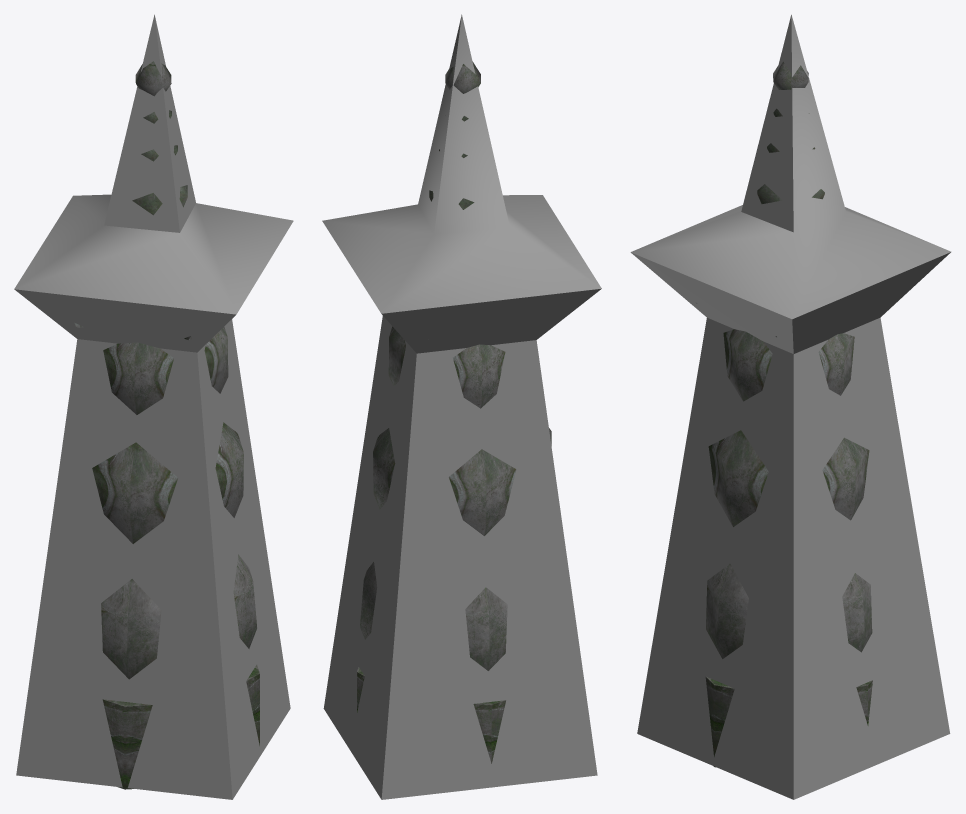
File: Scene_Object_ShiDeng_2.FBX
The picture shows the model from 3 angles, left to right: view 1: azimuth 30°, elevation 25°; view 2: azimuth 150°, elevation 25°; view 3: azimuth 270°, elevation 25°; orthographic projection.
Parts seen in each view (by area): view 1: Scene_Object_ShiDeng_2_Xzm, Scene_Object_ShiDeng_2; view 2: Scene_Object_ShiDeng_2_Xzm, Scene_Object_ShiDeng_2; view 3: Scene_Object_ShiDeng_2_Xzm, Scene_Object_ShiDeng_2.
Part boxes in pixels (x1,y1,x2,y2): Scene_Object_ShiDeng_2_Xzm: (14,14,293,799); Scene_Object_ShiDeng_2: (74,61,259,789); Scene_Object_ShiDeng_2_Xzm: (322,14,601,799); Scene_Object_ShiDeng_2: (357,61,551,763); Scene_Object_ShiDeng_2_Xzm: (630,14,951,799); Scene_Object_ShiDeng_2: (696,62,872,767).
Bounding box in the file's own units: 135 × 336 × 135.
